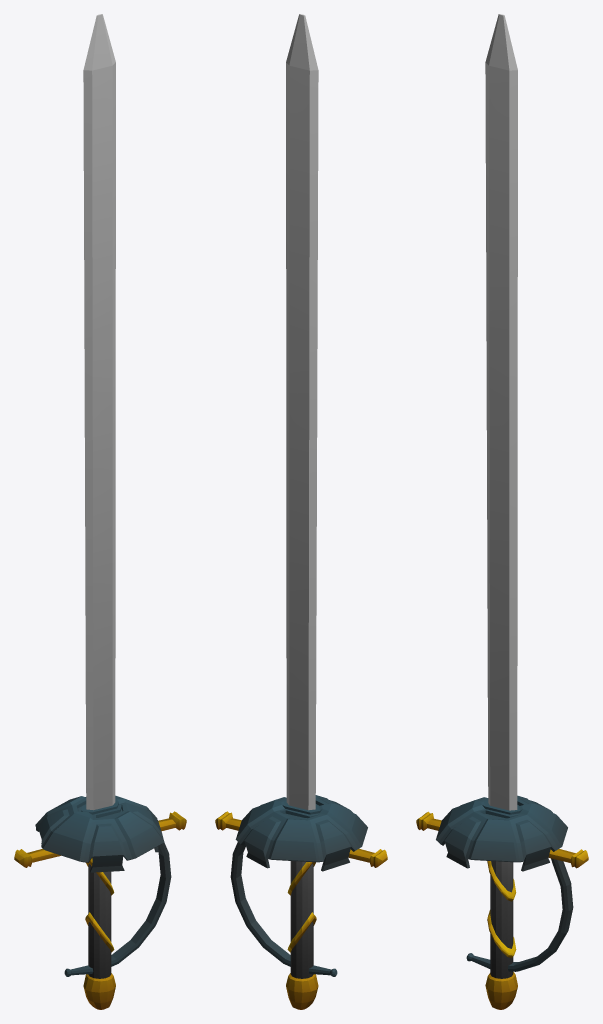
File: Sword_Rapier.fbx
3 renders of one model, left to right at view 1: azimuth 30°, elevation 25°; view 2: azimuth 150°, elevation 25°; view 3: azimuth 330°, elevation 25°, orthographic.
Parts seen in each view (by area): view 1: Sword_Rapier; view 2: Sword_Rapier; view 3: Sword_Rapier.
Part boxes in pixels (bbox=[...]): Sword_Rapier: bbox=[14, 14, 186, 1009]; Sword_Rapier: bbox=[215, 14, 387, 1009]; Sword_Rapier: bbox=[416, 14, 588, 1009].
Size of the model in its own units: 59.25 by 336 by 41.6.
